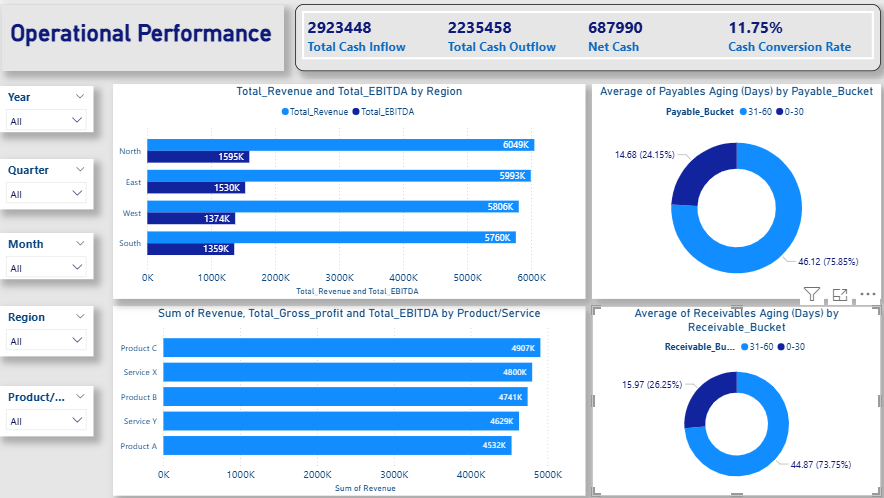

The page's visual inventory and layout, read from the dashboard file:
{"tool":"powerbi","page":{"name":"Operational Performance","canvas":[1280,720],"ordinal":1},"visuals":[{"type":"clusteredBarChart","fields":{"Category":["Data.Product/Service"],"Y":["Sum(Data.Revenue)"]},"box":[162.7,432,675.4,270.7],"z":0},{"type":"clusteredBarChart","fields":{"Category":["Data.Region"],"Y":["Data.Total_Revenue","Data.Total_EBITDA"]},"box":[162.7,113.8,675.4,306.7],"z":1000},{"type":"donutChart","fields":{"Y":["Avg(Data.Receivables Aging (Days))"],"Category":["Data.Receivable_Bucket"]},"box":[846.7,432,413.3,270.7],"z":2000},{"type":"donutChart","fields":{"Y":["Avg(Data.Payables Aging (Days))"],"Category":["Data.Payable_Bucket"]},"box":[846.7,113.8,413.3,306.7],"z":3000},{"type":"multiRowCard","fields":{"Values":["Data.Total_Cash_Inflow","Data.Total_Cash_Outflow","Data.Net_Cash","Data.Cash_Conversion_Rate"]},"box":[422.9,0,837.1,95.7],"z":5000},{"type":"textbox","box":[4.3,1.4,402.9,94.3],"z":6000},{"type":"slicer","fields":{"Values":["DateTable.Year"]},"box":[0,117.8,134.9,66.3],"z":7000},{"type":"slicer","fields":{"Values":["DateTable.Quarter"]},"box":[0,221.8,135.4,72],"z":8000},{"type":"slicer","fields":{"Values":["DateTable.Month_Name"]},"box":[0,326.9,135.4,66.2],"z":9000},{"type":"slicer","fields":{"Values":["Data.Region"]},"box":[0,432,135.4,72],"z":10000},{"type":"slicer","fields":{"Values":["Data.Product/Service"]},"box":[0,545.8,135.4,72],"z":11000}]}

Visuals, with their boxes in screenshot pixels (x1, y1, x2, y2), scaled from the page's 1280x720 canvas onto the 884x498 screenshot:
clusteredBarChart - Data.Product/Service x Sum(Data.Revenue): x1=112, y1=299, x2=579, y2=486
clusteredBarChart - Data.Region x Data.Total_Revenue: x1=112, y1=79, x2=579, y2=291
donutChart - Avg(Data.Receivables Aging (Days)) x Data.Receivable_Bucket: x1=585, y1=299, x2=870, y2=486
donutChart - Avg(Data.Payables Aging (Days)) x Data.Payable_Bucket: x1=585, y1=79, x2=870, y2=291
multiRowCard - Data.Total_Cash_Inflow x Data.Total_Cash_Outflow: x1=292, y1=0, x2=870, y2=66
textbox: x1=3, y1=1, x2=281, y2=66
slicer - DateTable.Year: x1=0, y1=81, x2=93, y2=127
slicer - DateTable.Quarter: x1=0, y1=153, x2=94, y2=203
slicer - DateTable.Month_Name: x1=0, y1=226, x2=94, y2=272
slicer - Data.Region: x1=0, y1=299, x2=94, y2=349
slicer - Data.Product/Service: x1=0, y1=378, x2=94, y2=427
